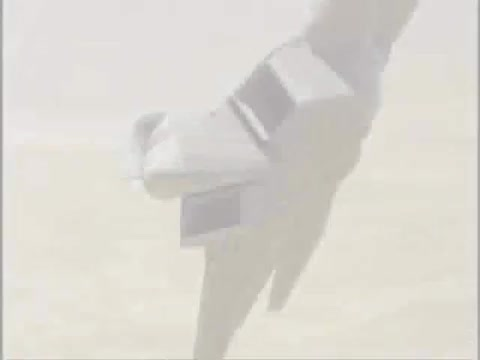aeroplane: (131, 2, 423, 359)
